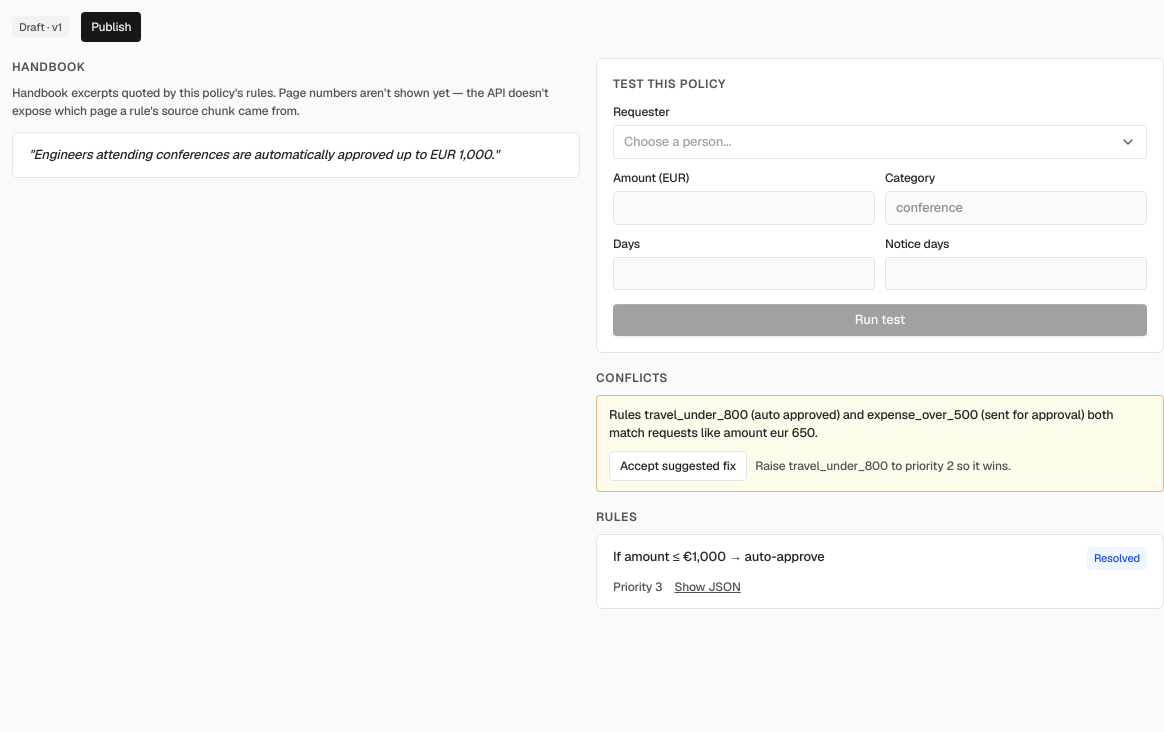
Test: a draft policy › lists a conflict and applies the suggested fix
This screenshot has width=1164, height=732.
Expected: the text "Rules travel_under_800 (auto approved)" is shown, x1=609 y1=406 x2=1114 y2=441
Step 1. Click the button "Accept suggested fix" → (678, 466), box x1=609 y1=451 x2=747 y2=481
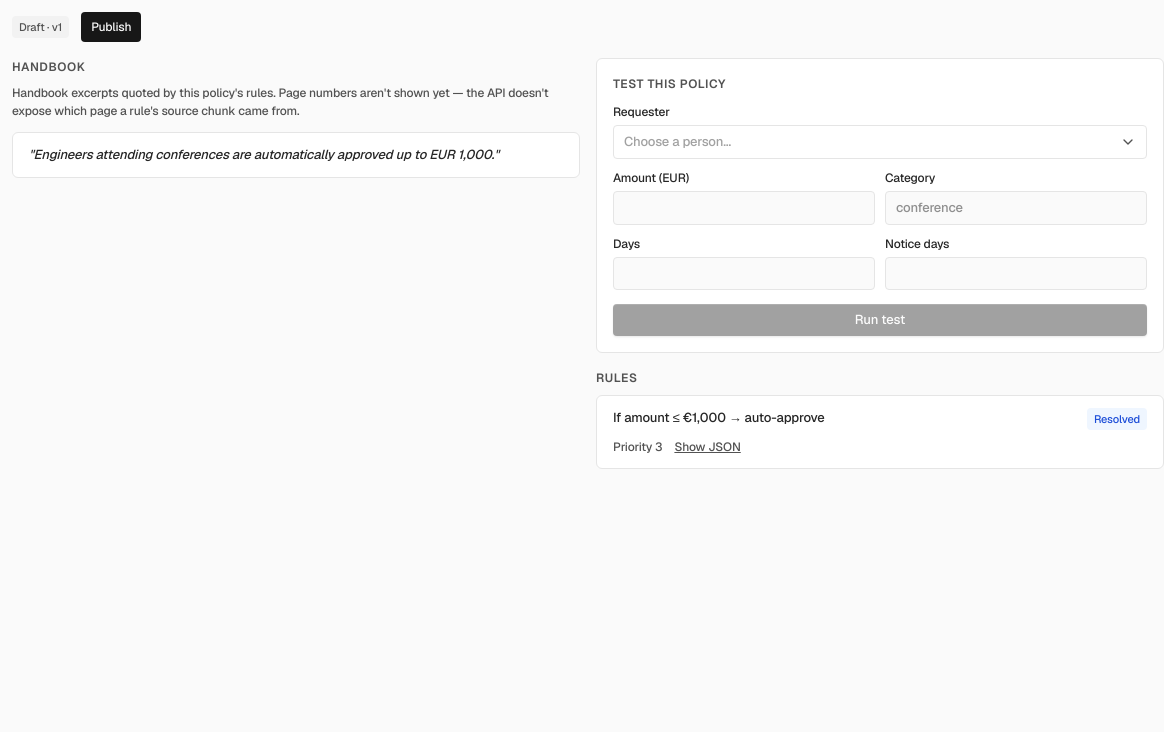
Now the text "Rules travel_under_800" is gone
